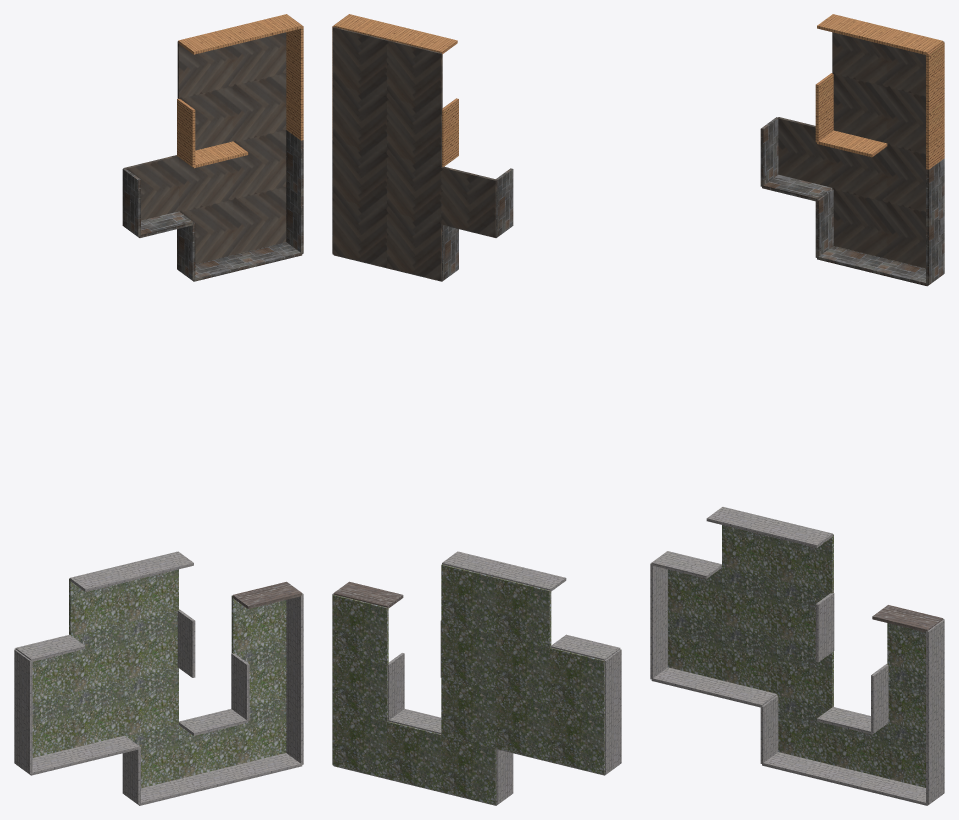
The model's file is room2.gltf.
3 renders of one model, left to right at view 1: azimuth 30°, elevation 25°; view 2: azimuth 150°, elevation 25°; view 3: azimuth 330°, elevation 25°, orthographic.
Parts seen in each view (by area): view 1: Cube.092, Cube.093, Cube.105, Cube.091, Cube.103, Cube.090, Cube.104, Cube.097, Cube.107, Cube.099, Cube.089, Cube.101 (+41 smaller); view 2: Cube.099, Cube.089, Cube.100, Cube.088, Cube.107, Cube.087, Cube.098, Cube.095, Cube.096, Cube.108, Cube.094, Cube.106 (+24 smaller); view 3: Cube.090, Cube.092, Cube.091, Cube.102, Cube.106, Cube.087, Cube.095, Cube.100, Cube.094, Cube.101, Cube.096, Cube.093 (+41 smaller).
Boxes of the visible parts, x1,y1,x2,y2 form: Cube.092: (124, 667, 178, 736); Cube.093: (124, 610, 177, 679); Cube.105: (233, 73, 286, 142); Cube.091: (70, 680, 124, 748); Cube.103: (233, 186, 286, 254); Cube.090: (70, 623, 124, 693); Cube.104: (233, 130, 286, 199); Cube.097: (233, 697, 286, 765); Cube.107: (177, 41, 233, 98); Cube.099: (231, 595, 286, 653); Cube.089: (69, 578, 124, 635); Cube.101: (179, 157, 233, 212); Cube.099: (332, 594, 388, 664); Cube.089: (495, 577, 551, 647); Cube.100: (441, 166, 496, 237); Cube.088: (549, 647, 604, 717); Cube.107: (387, 40, 442, 110); Cube.087: (549, 705, 604, 774); Cube.098: (332, 652, 387, 721); Cube.095: (441, 735, 496, 804); Cube.096: (387, 721, 441, 791); Cube.108: (332, 27, 387, 97); Cube.094: (441, 564, 495, 634); Cube.106: (387, 97, 441, 167); Cube.090: (722, 566, 776, 637); Cube.092: (777, 637, 833, 708); Cube.091: (722, 624, 776, 693); Cube.102: (833, 189, 887, 258); Cube.106: (833, 74, 887, 143); Cube.087: (668, 611, 721, 680); Cube.095: (778, 695, 832, 764); Cube.100: (778, 117, 832, 187); Cube.094: (777, 534, 833, 593); Cube.101: (832, 147, 887, 202); Cube.096: (832, 724, 887, 778); Cube.093: (777, 580, 833, 646).
Bounding box in the file's own units: 20.2 × 52.2 × 2.1.
6 materials, 6 textured.
